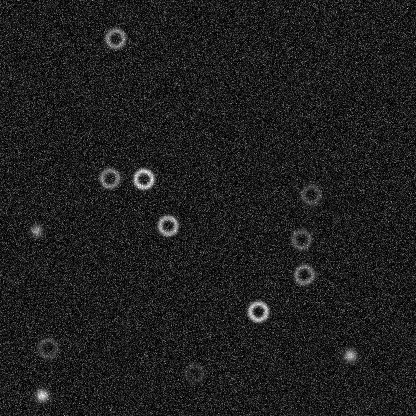Ring: (131, 166, 155, 190), (35, 335, 59, 359), (155, 213, 179, 237), (289, 227, 313, 251), (292, 262, 316, 286), (97, 165, 121, 189), (103, 26, 127, 50), (298, 182, 322, 206), (182, 360, 206, 384), (246, 299, 270, 323)
Spot: (28, 222, 44, 238), (33, 387, 49, 403), (341, 347, 357, 363)
